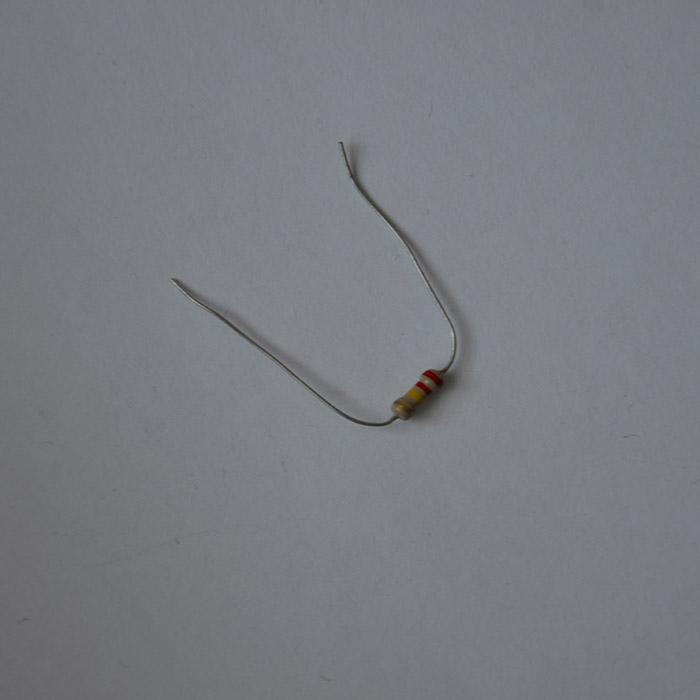resistor: (392, 368, 445, 422)
